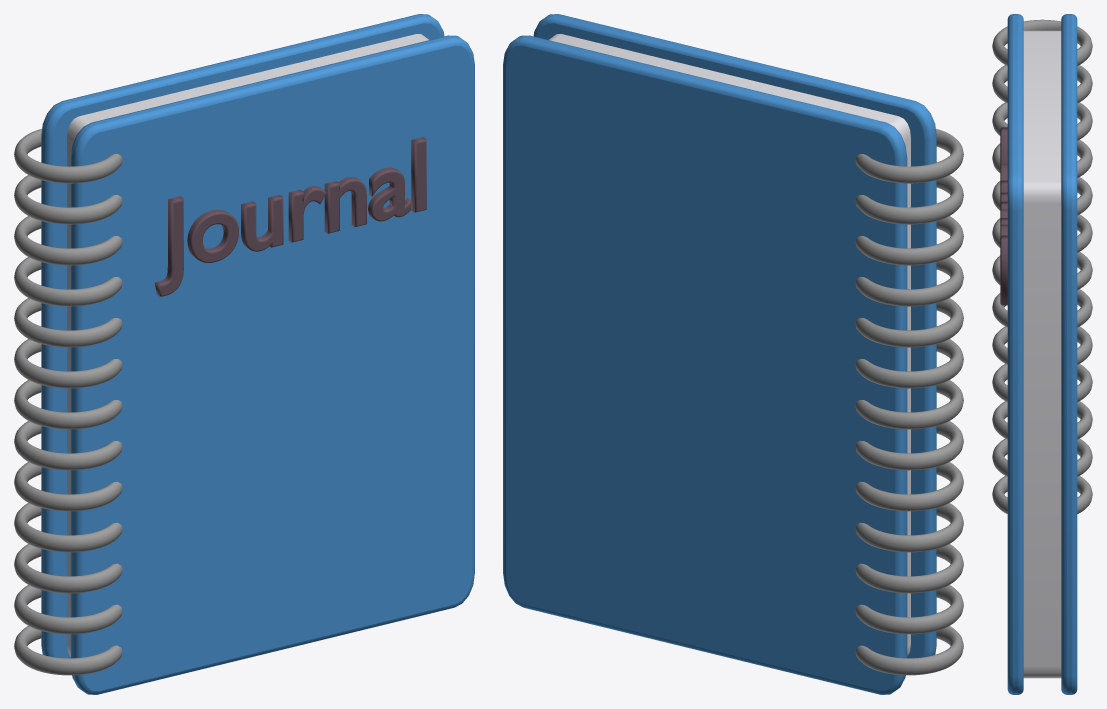
The model's file is journal.glb.
The picture shows the model from 3 angles, left to right: view 1: azimuth 30°, elevation 25°; view 2: azimuth 150°, elevation 25°; view 3: azimuth 270°, elevation 25°; orthographic projection. The views are drawn at different scales.
Parts seen in each view (by area): view 1: Torus; view 2: Torus; view 3: Torus.
Boxes of the visible parts, x1,y1,x2,y2 form: Torus: (14, 14, 474, 694); Torus: (503, 14, 963, 694); Torus: (992, 14, 1092, 694).
Bounding box in the file's own units: 2.73 × 3.4 × 0.5969.
